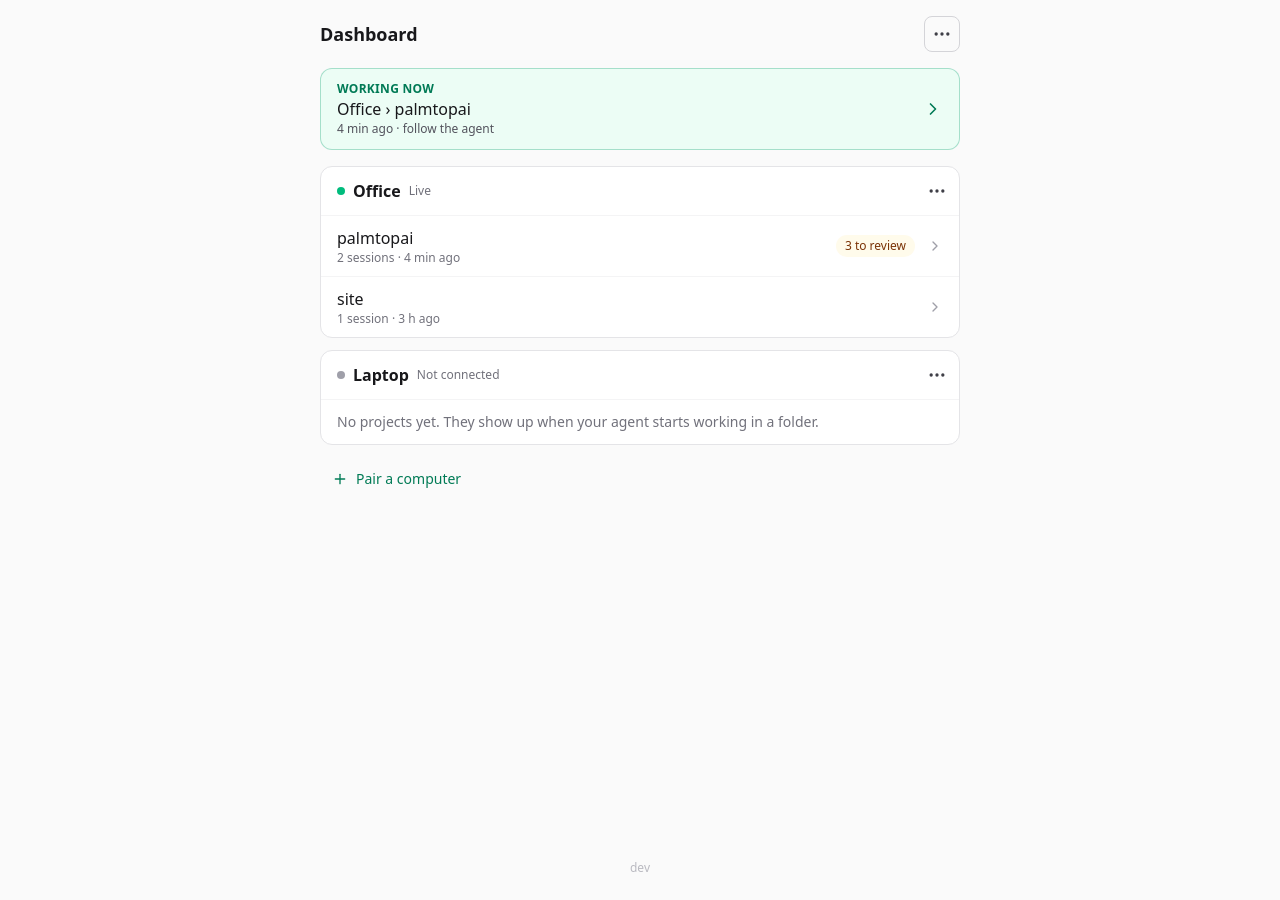
Dashboard › the app menu opens the feedback form
Click the button named "App menu".
click(942, 34)  # box left=924, top=16, right=960, bottom=52
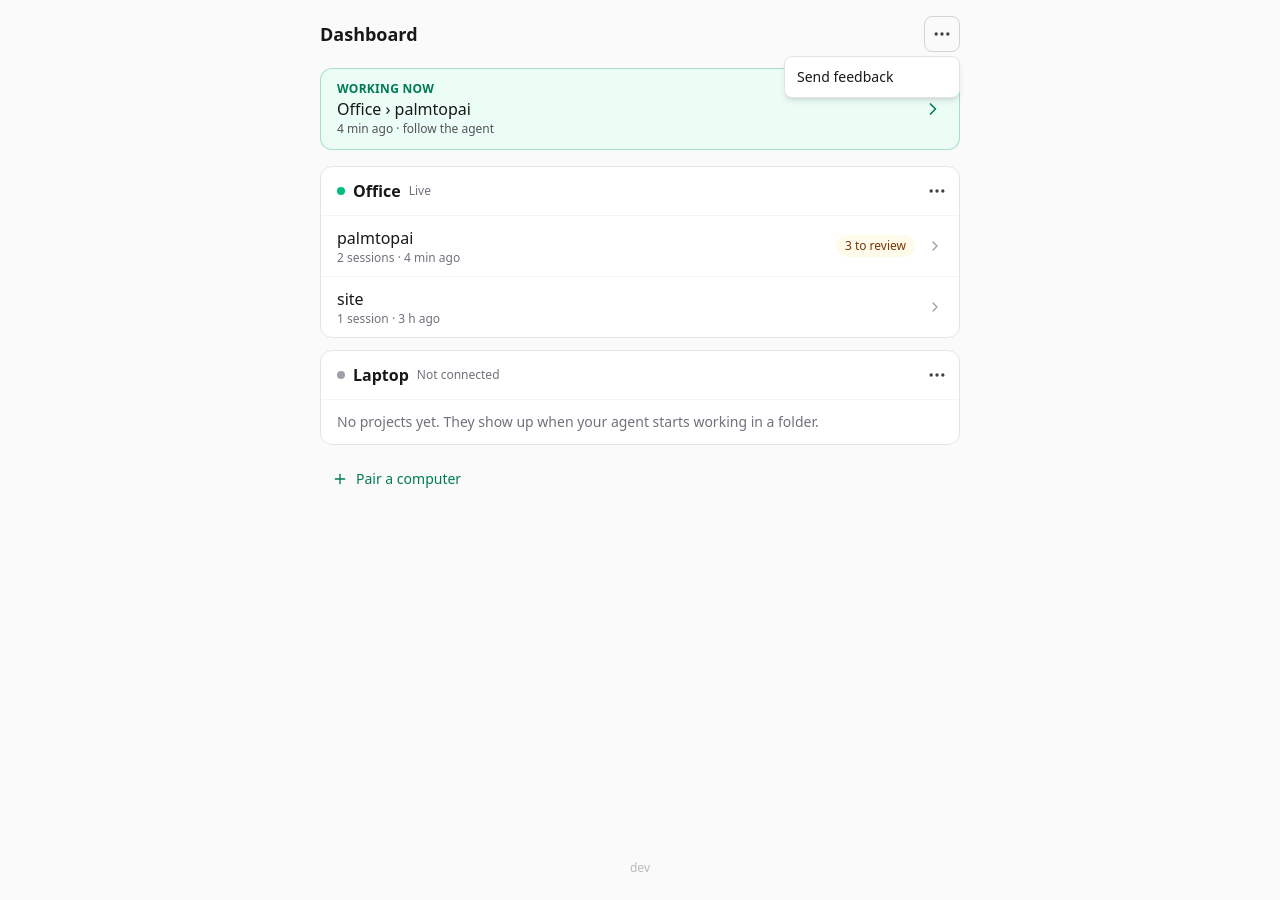
Click the menu item "Send feedback".
click(845, 76)  # box left=797, top=67, right=893, bottom=86
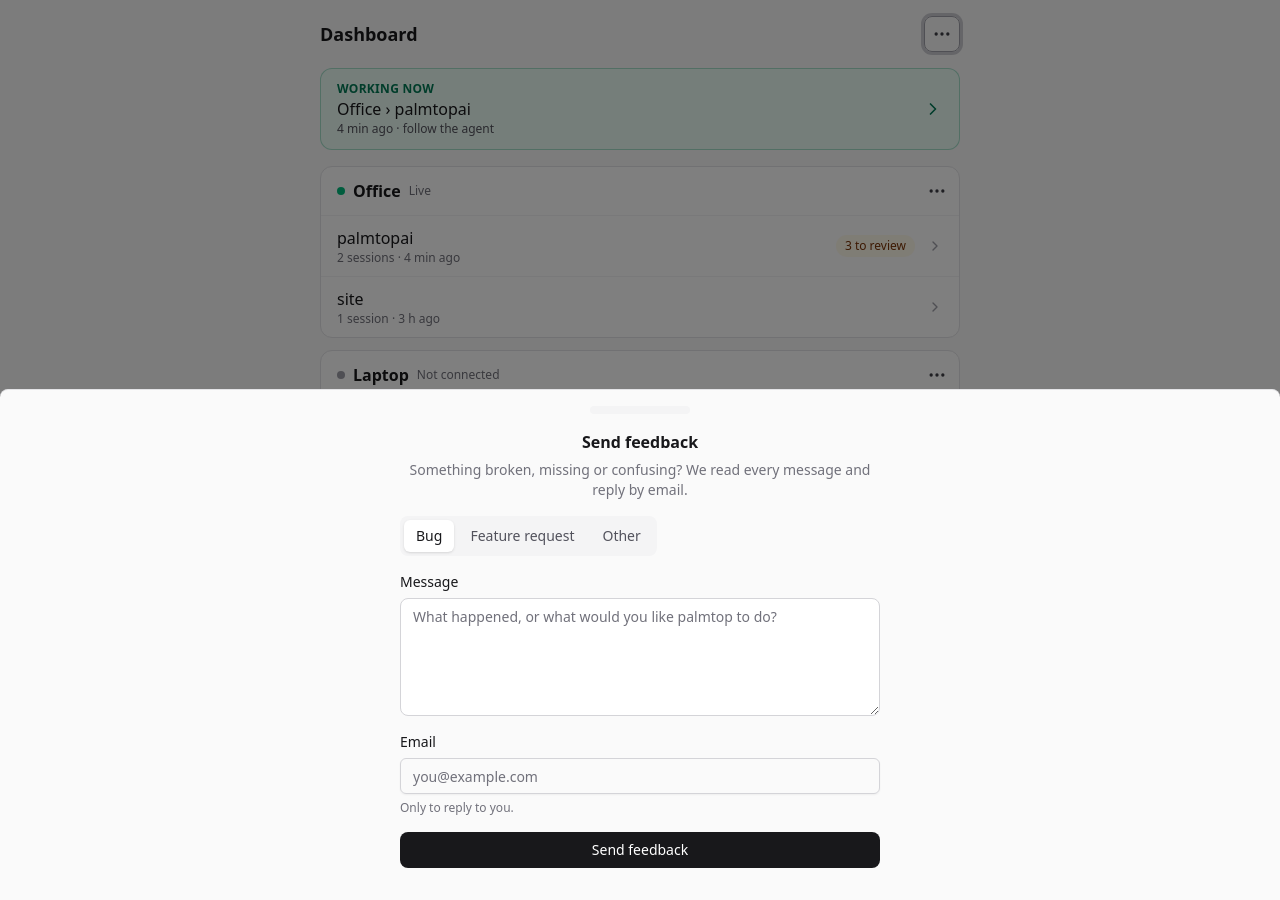
Expected: the heading "Send feedback" is shown, left=582, top=431, right=698, bottom=453
